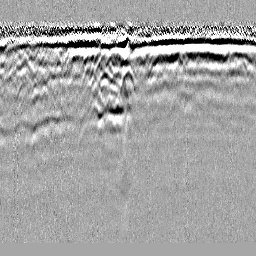cavity: (119, 64, 137, 99)
